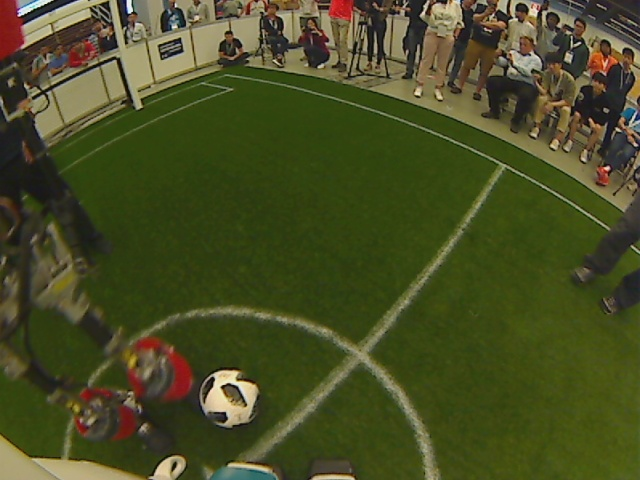ball: (197, 365, 264, 432)
